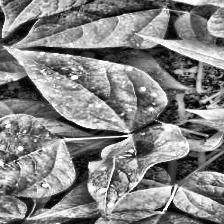Bean Rust: (1, 47, 182, 133), (91, 121, 202, 210), (0, 113, 71, 210), (0, 0, 100, 36)
